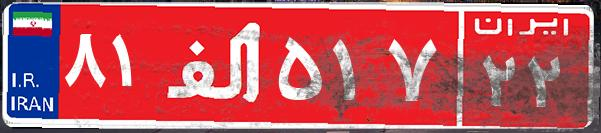1: (330, 28, 385, 110), (110, 28, 158, 105)
2: (475, 38, 525, 113), (525, 38, 570, 115)
5: (273, 28, 330, 110)
7: (385, 28, 445, 110)
8: (57, 26, 110, 107)
الف: (158, 15, 273, 115)
